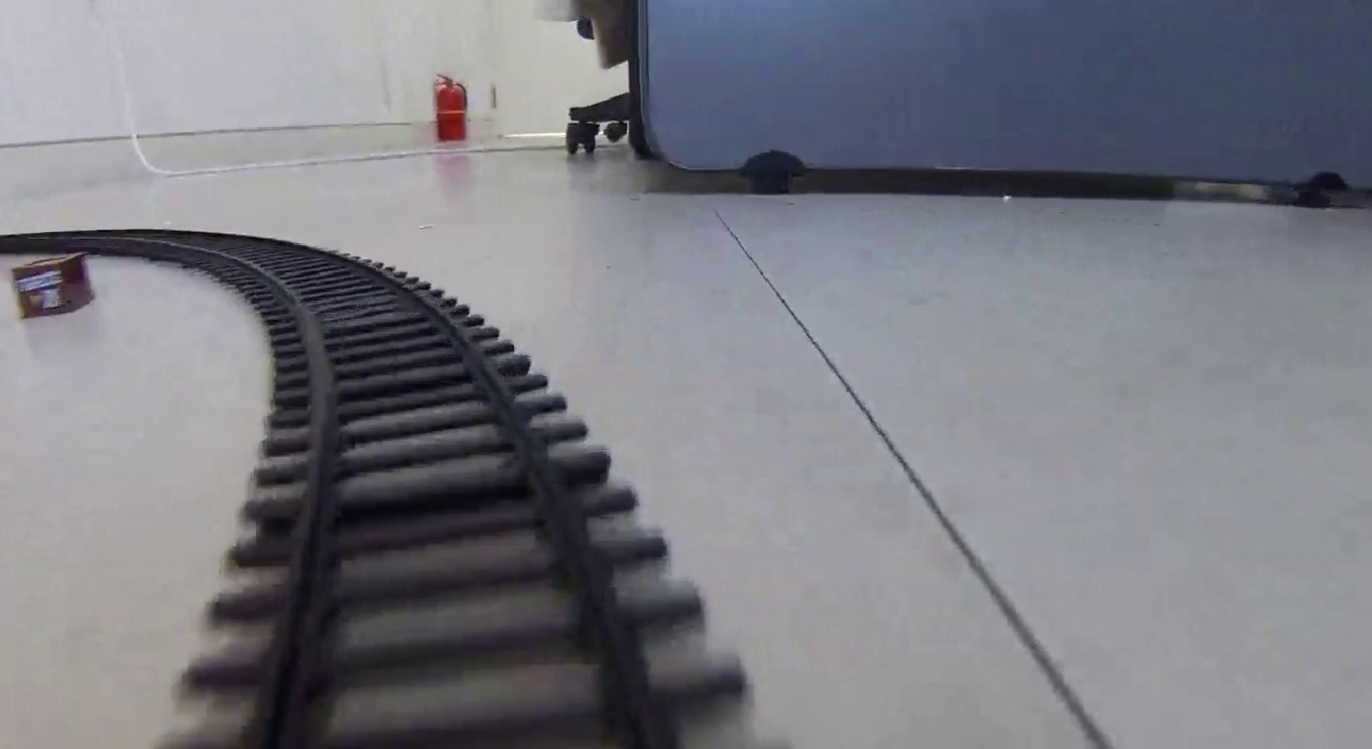box: (10, 251, 97, 323)
